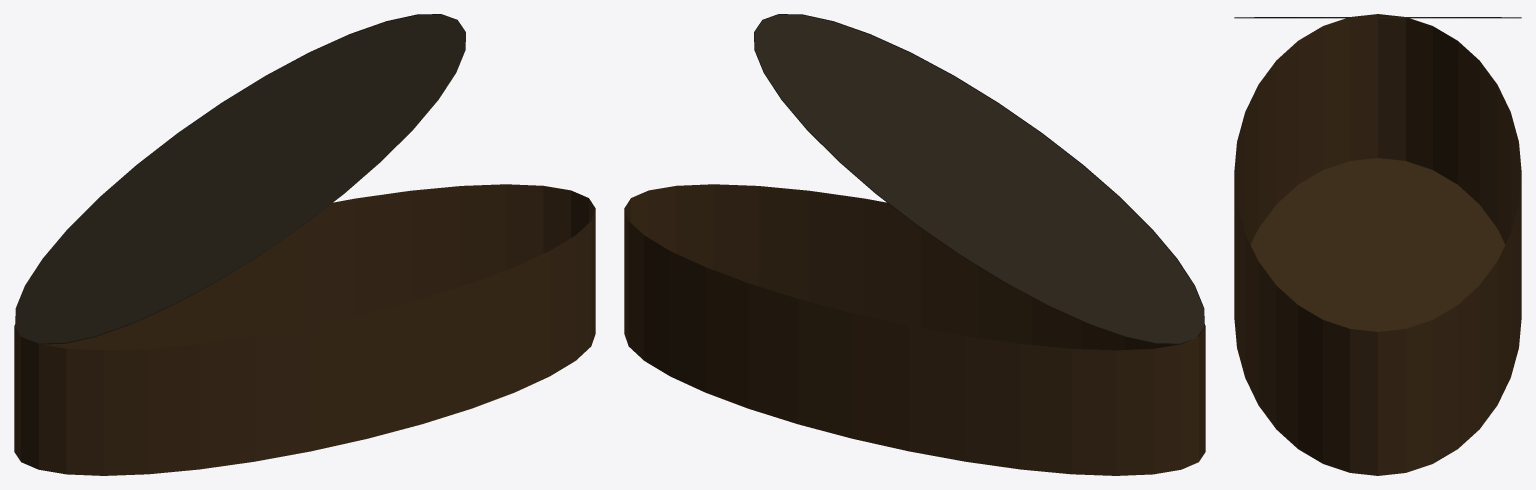
Rendered from CannedFish.fbx.
3 views of the same model, side by side, from view 1: azimuth 30°, elevation 25°; view 2: azimuth 150°, elevation 25°; view 3: azimuth 270°, elevation 25° (orthographic). The views are drawn at different scales.
Visible parts, largest first — view 1: Cylinder, Cylinder.001; view 2: Cylinder, Cylinder.001; view 3: Cylinder, Cylinder.001.
Part boxes in pixels (<box>): Cylinder: <box>14,184,595,475</box>; Cylinder.001: <box>15,14,465,344</box>; Cylinder: <box>624,184,1205,475</box>; Cylinder.001: <box>754,14,1204,344</box>; Cylinder: <box>1234,14,1521,475</box>; Cylinder.001: <box>1234,17,1521,18</box>.
Size of the model in its own units: 49.38 by 27.9 by 18.87.
